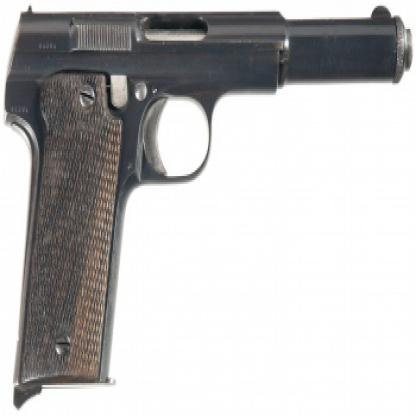Guns: (1, 0, 411, 407)
